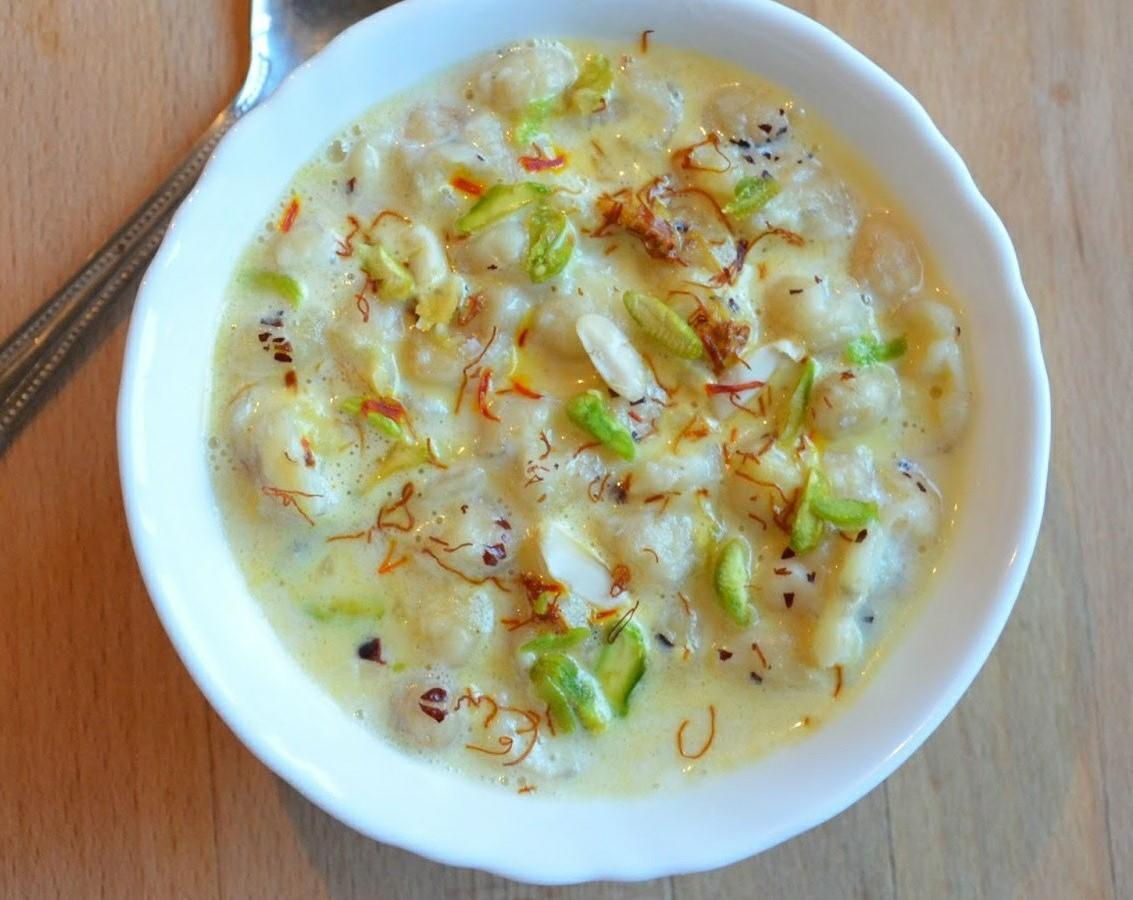Kheer: (205, 33, 980, 790)
